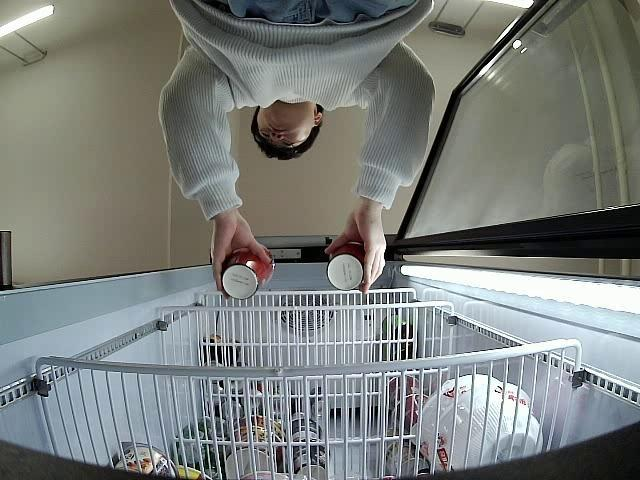02_shinRamen_S: (220, 245, 275, 299), (326, 243, 366, 290)
